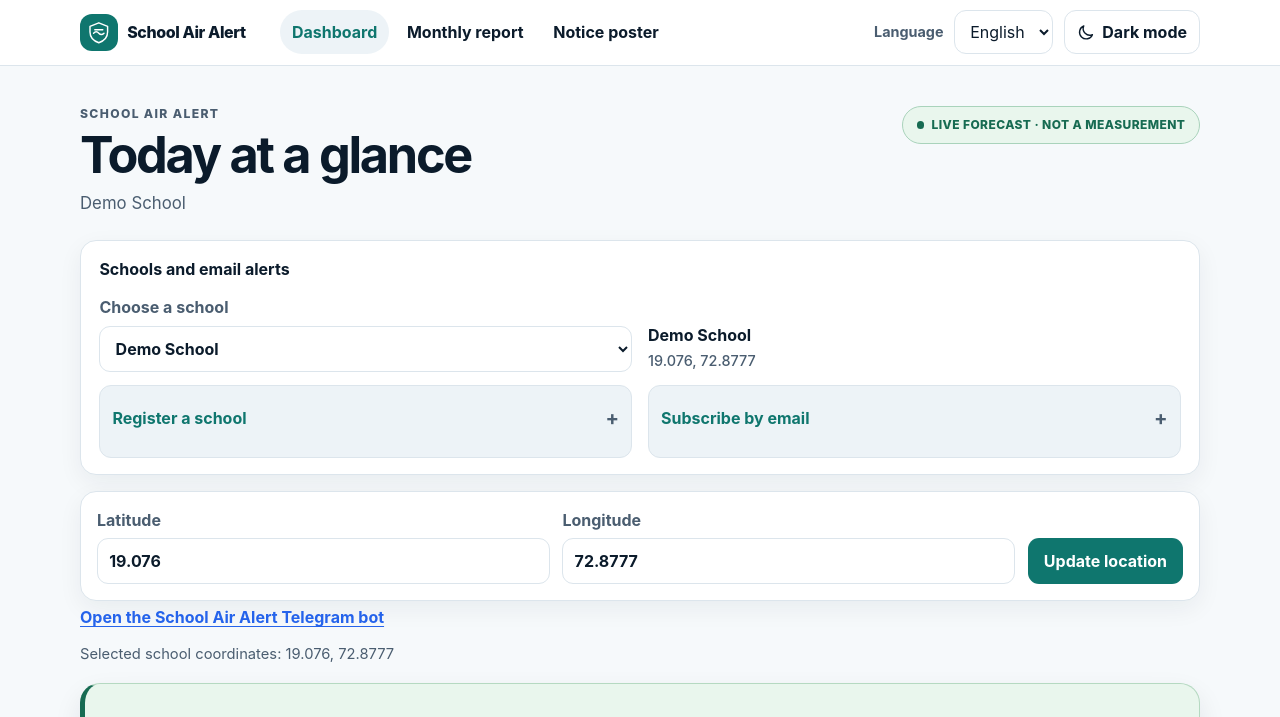
Test: dashboard states › selects a newly registered school's returned coordinates
Expected: the dropdown labelled "Choose a school" is shown, [99, 326, 632, 372]
Click the heading "Register a school".
click(180, 418)  # box [112, 408, 247, 428]
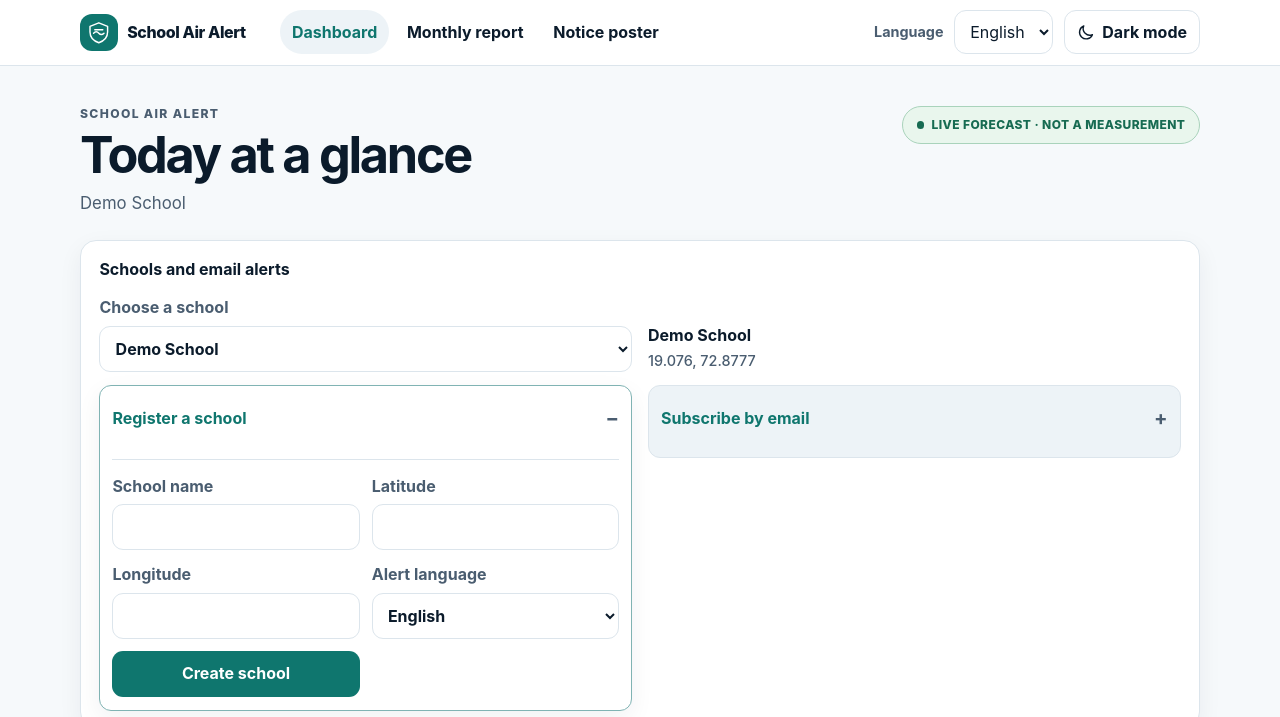
Type "Demo School Pune" into the field labelled "School name".
click(236, 527); type("Demo School Pune")  # box [112, 504, 360, 550]
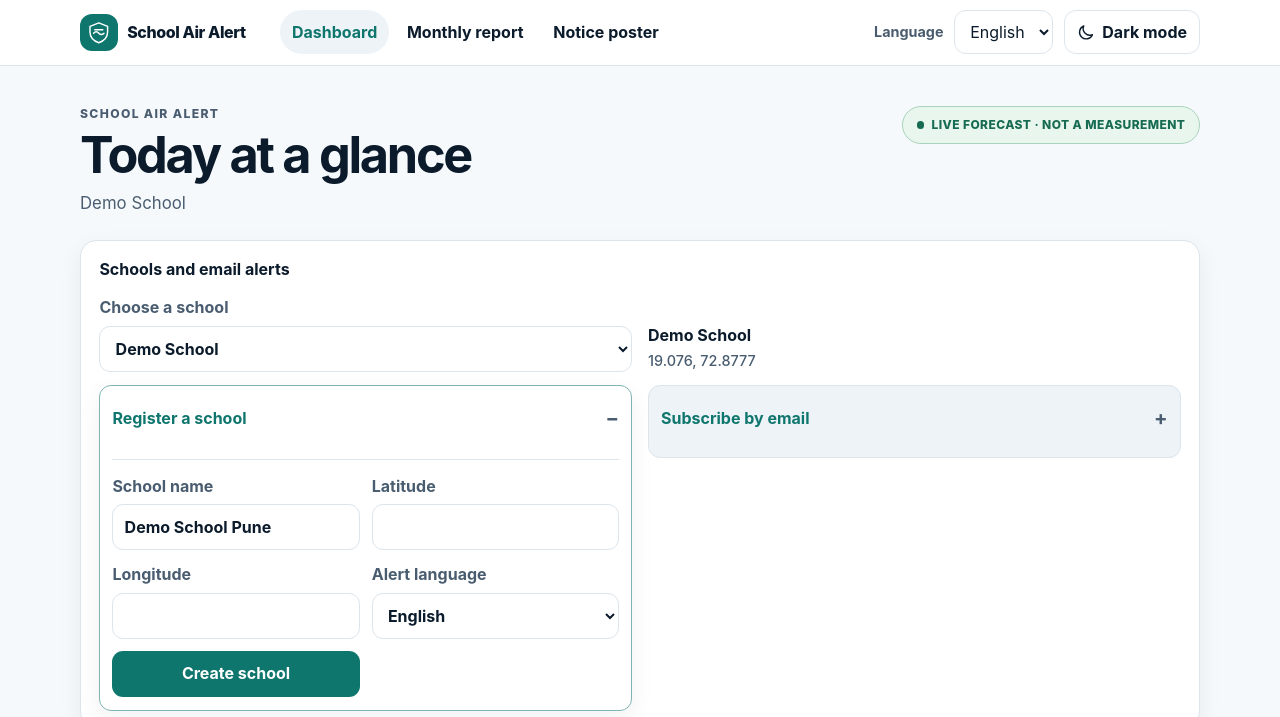
Type "18.5204" into the number field labelled "Latitude".
click(495, 527); type("18.5204")  # box [372, 504, 619, 550]
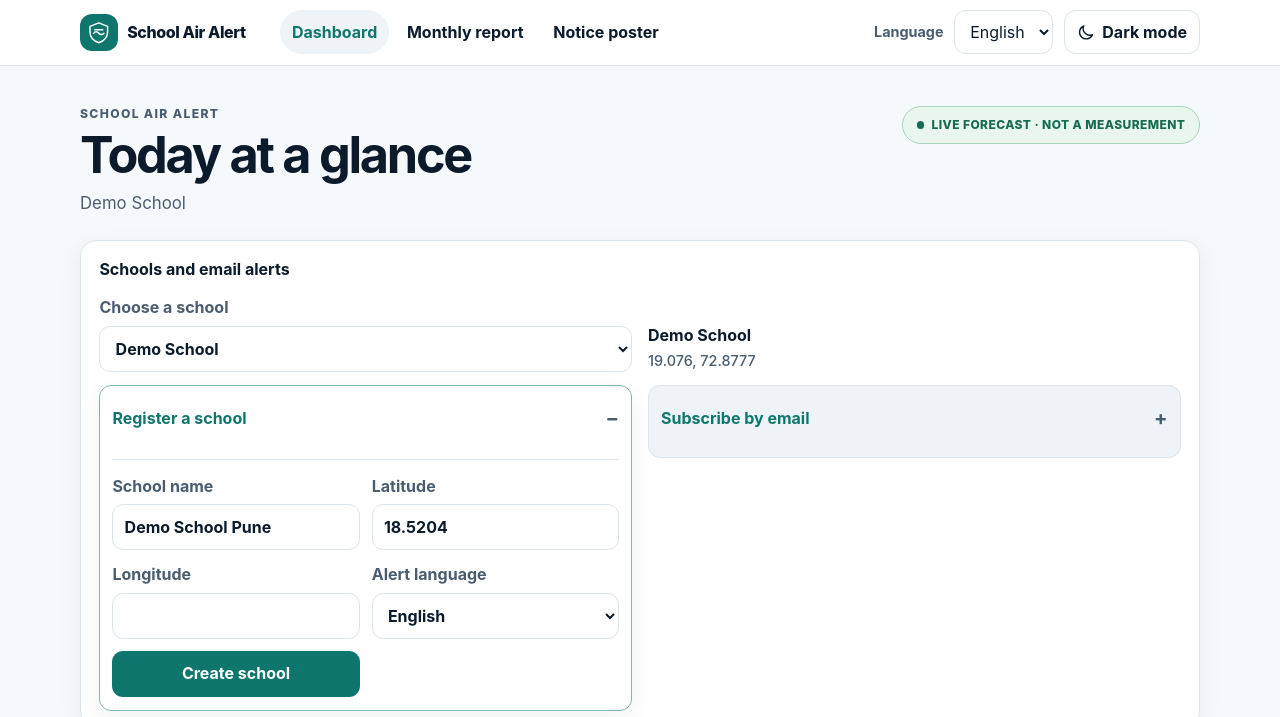
Type "73.8567" into the number field labelled "Longitude".
click(236, 616); type("73.8567")  # box [112, 593, 360, 639]
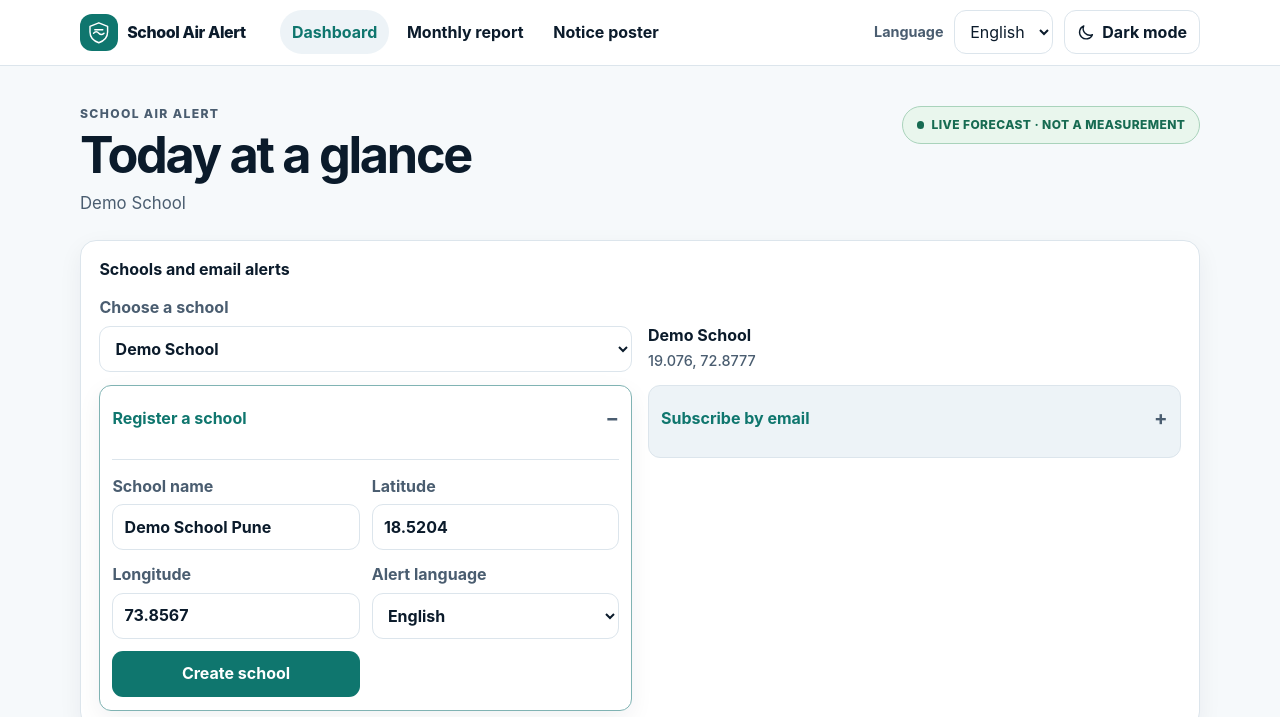
Click the button "Create school".
click(236, 674)  # box [112, 651, 360, 697]
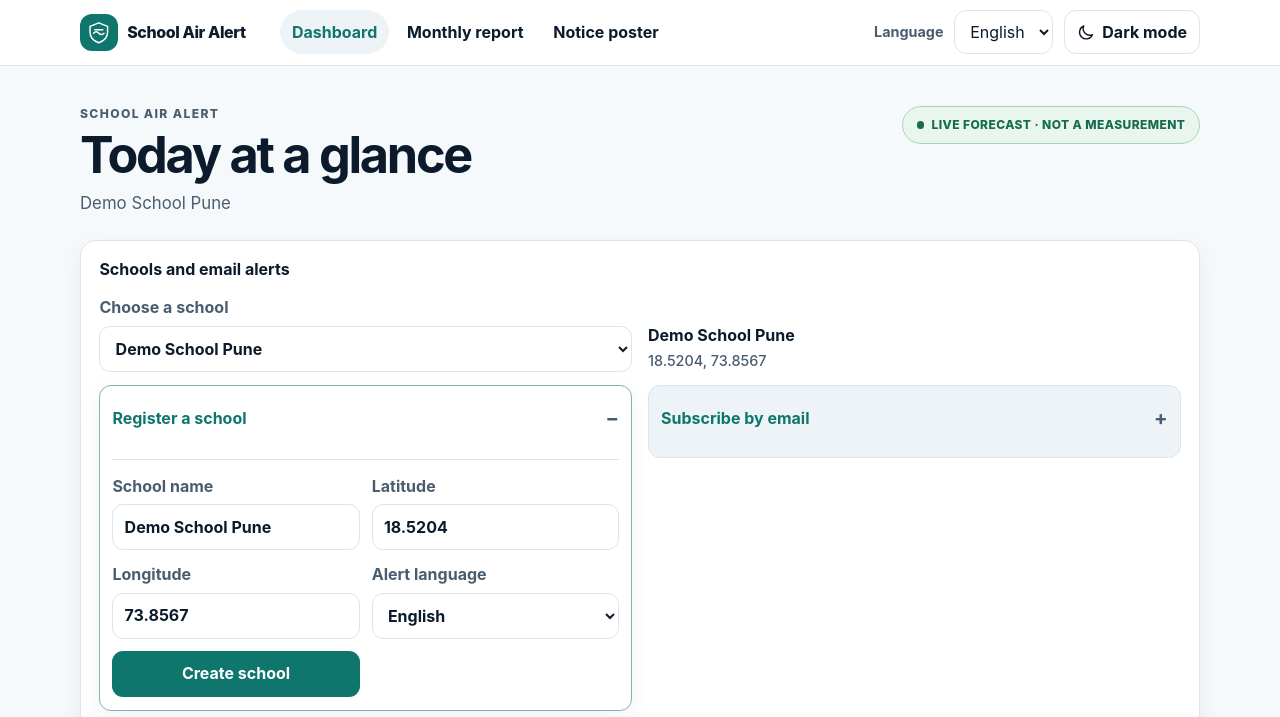
Expected: the text "Demo School Pune" below "Today at a glance" is shown, [80, 193, 231, 213]
Expected: the dropdown labelled "Choose a school" shows "Demo School Pune", [99, 326, 632, 372]
